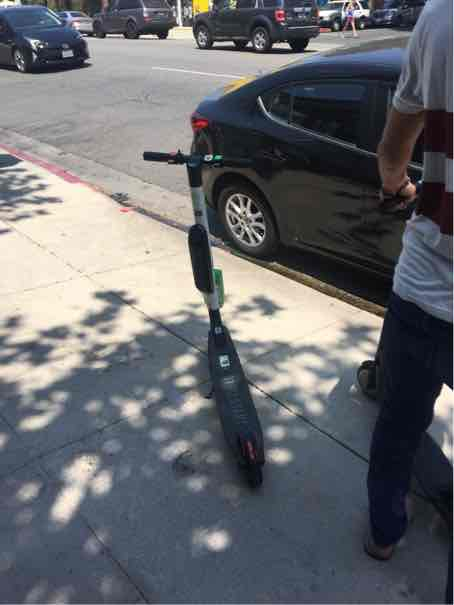scooter: (126, 128, 282, 496)
